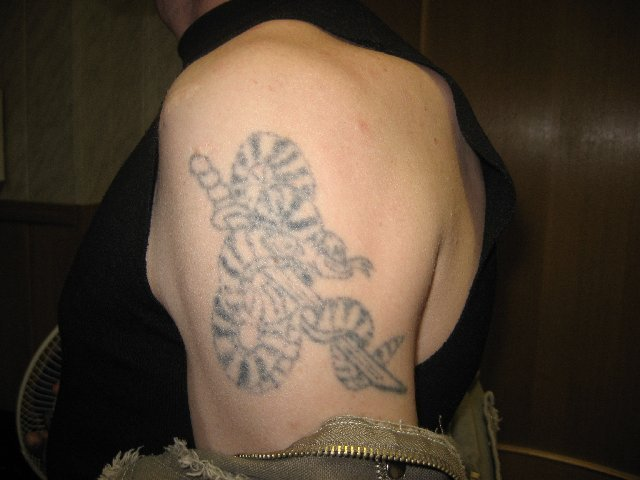tatu7_zmeya: (180, 125, 420, 423)
